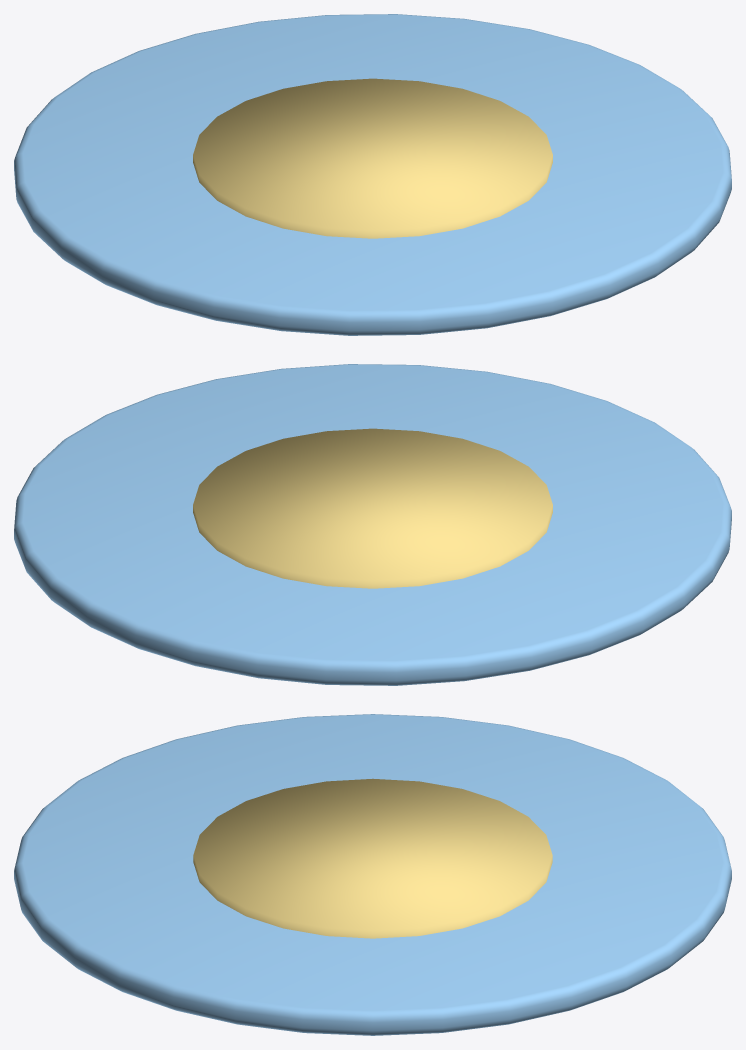
The picture shows the model from 3 angles, top to bottom: view 1: azimuth 30°, elevation 25°; view 2: azimuth 150°, elevation 25°; view 3: azimuth 270°, elevation 25°; orthographic projection.
Visible parts, largest first — view 1: patch; view 2: patch; view 3: patch.
Boxes of the visible parts, x1,y1,x2,y2 form: patch: (14,14,731,335); patch: (14,364,731,685); patch: (14,714,731,1035).
Size of the model in its own units: 0.32 by 0.016 by 0.32.
